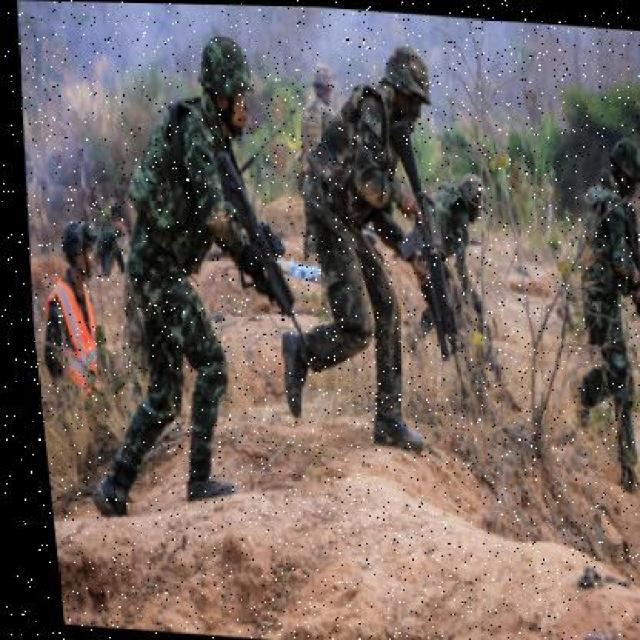MIL_Pax: (63, 42, 300, 506), (257, 45, 457, 449), (535, 123, 640, 495), (395, 155, 497, 354), (30, 219, 107, 413), (272, 50, 336, 152), (83, 200, 131, 292)
